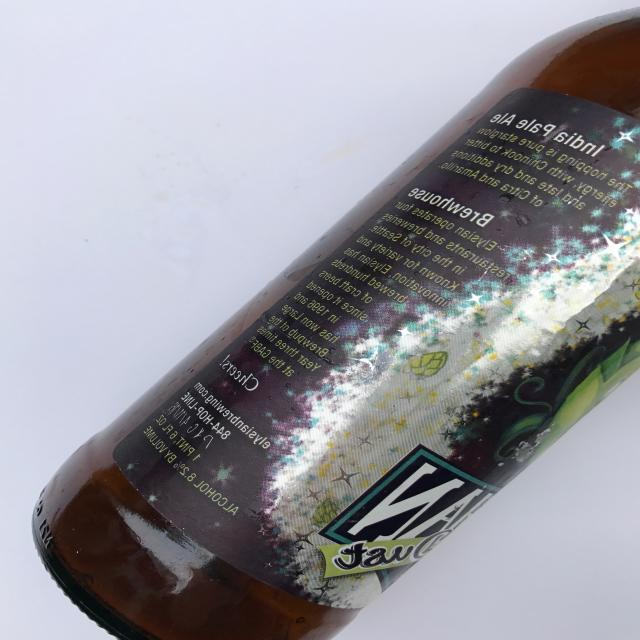glass: (30, 4, 640, 640)
